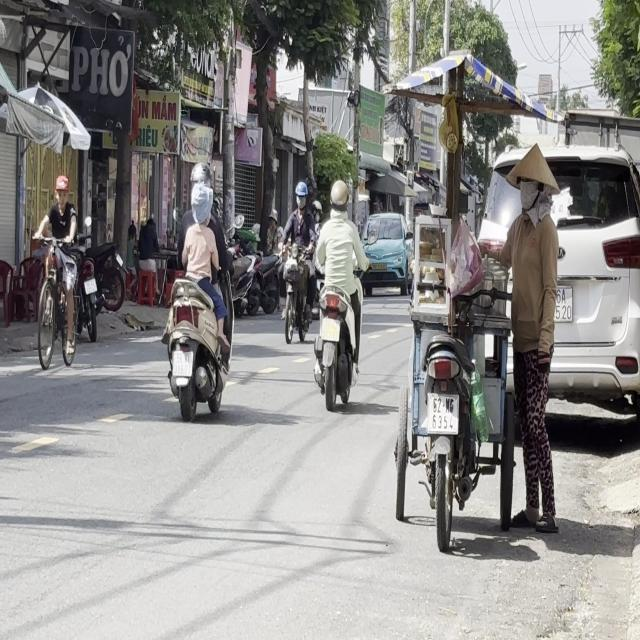helmet: (329, 178, 349, 214), (189, 160, 212, 191), (294, 180, 307, 209)
licenseplate: (160, 159, 235, 420), (310, 176, 366, 409), (279, 179, 317, 345)
motorcyclist: (191, 181, 213, 227)
nohelmet: (427, 393, 458, 433), (172, 350, 192, 376), (321, 318, 340, 342)
